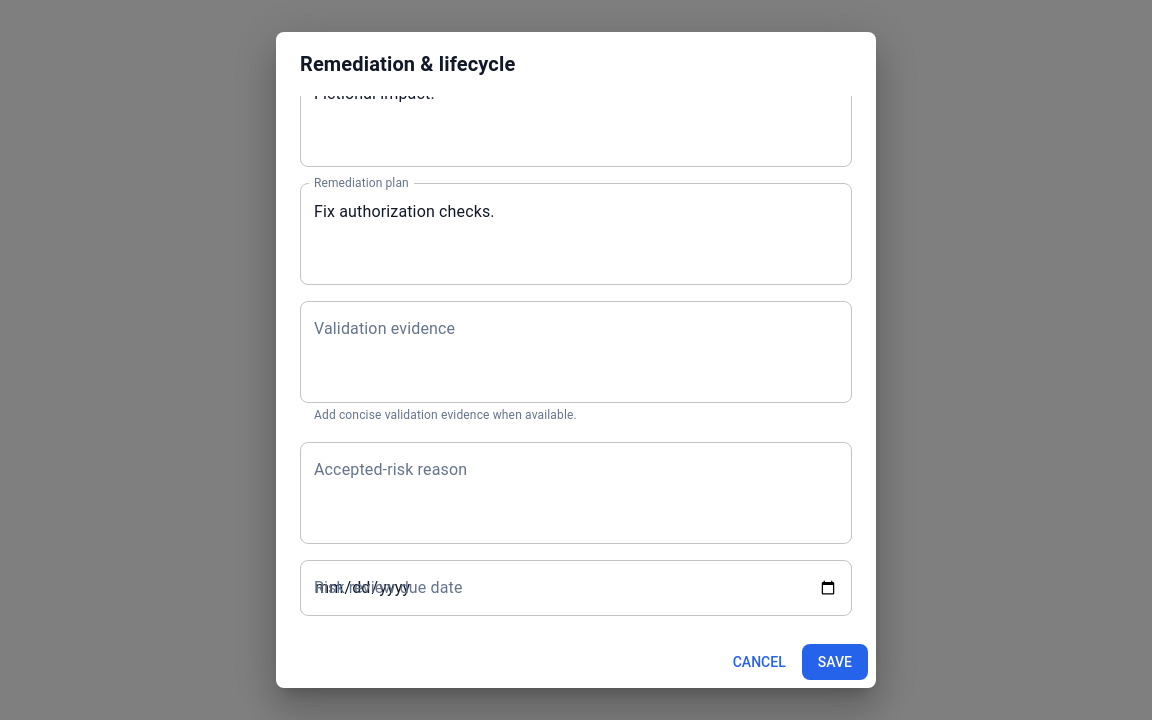
Scenario: accepted-risk lifecycle form requires reason and review date
The image size is (1152, 720).
(page scrolled)
Clear the text box labelled "Accepted-risk reason": (576, 493) left=314, top=458, right=838, bottom=527
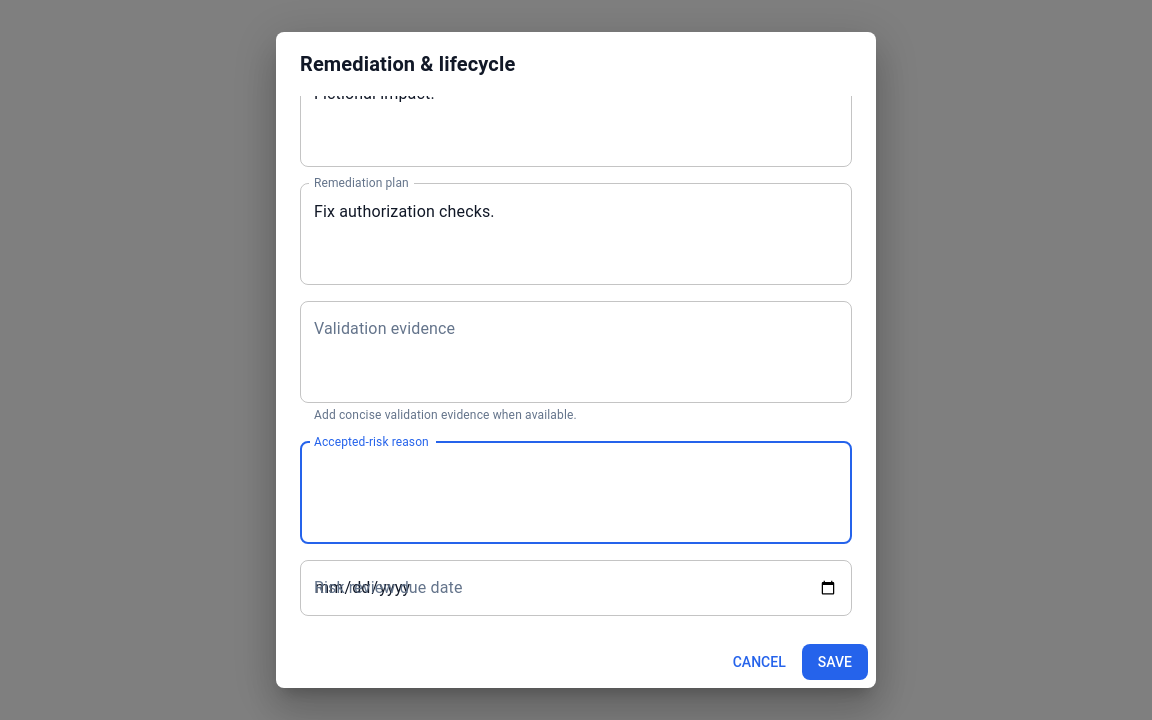
Click the button "Save": (835, 662) left=802, top=644, right=868, bottom=680
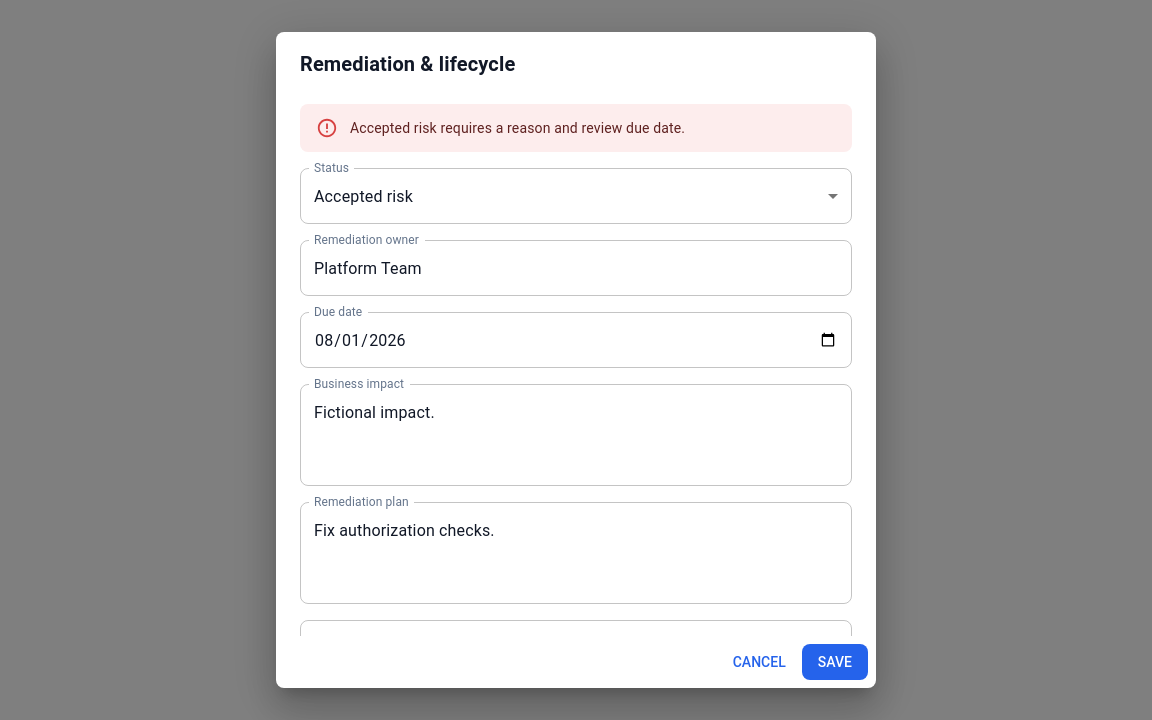
Check: the text "Accepted risk requires a reason and review due date." is shown, box left=350, top=120, right=685, bottom=136
